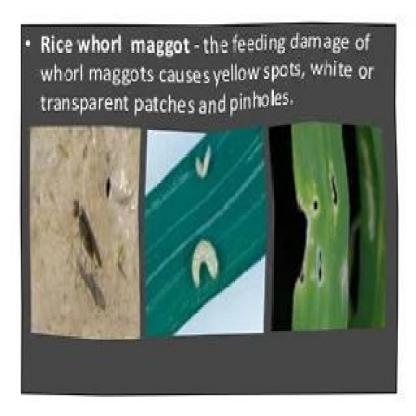whorl-maggot: (189, 236, 224, 288), (192, 142, 217, 182)
